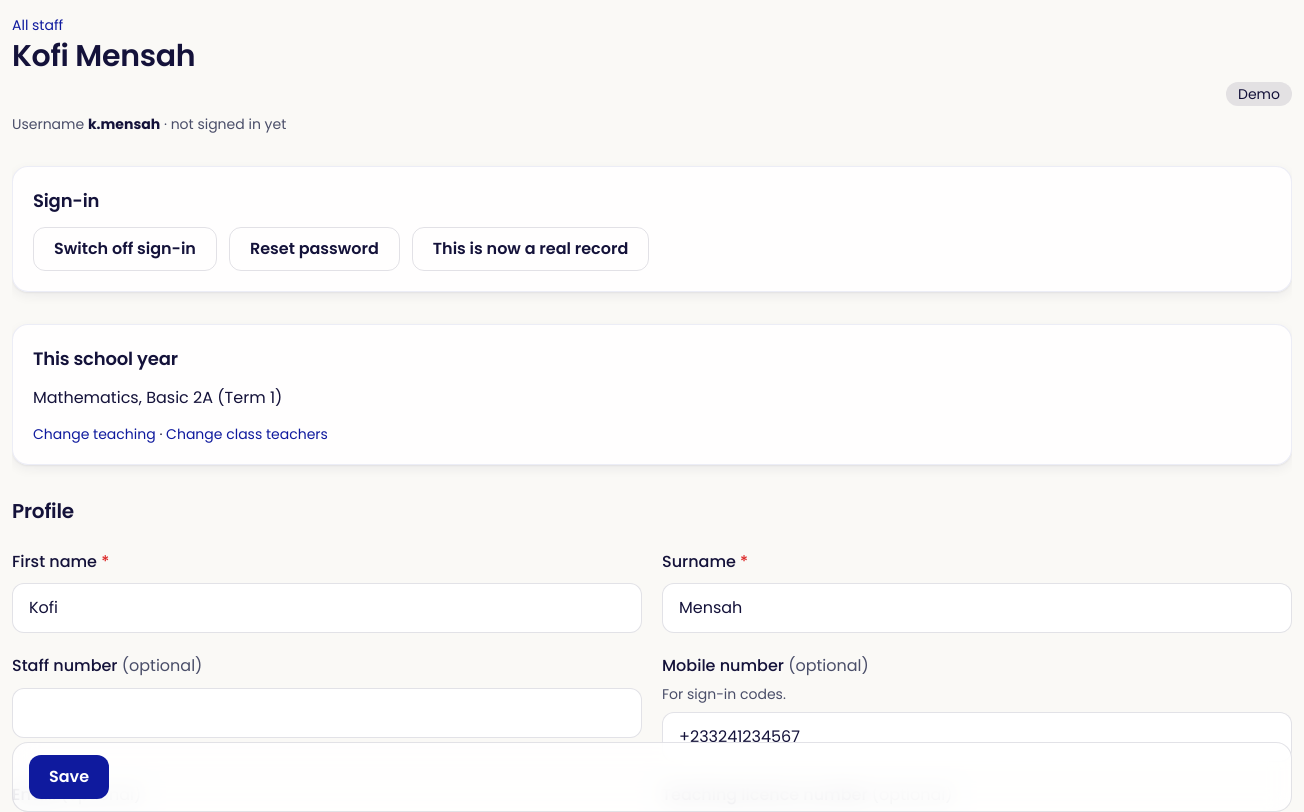
Test: StaffDetailView › turns a demo record into a real one
Click the button "This is now a real record": [531, 249] box [412,227,649,271]
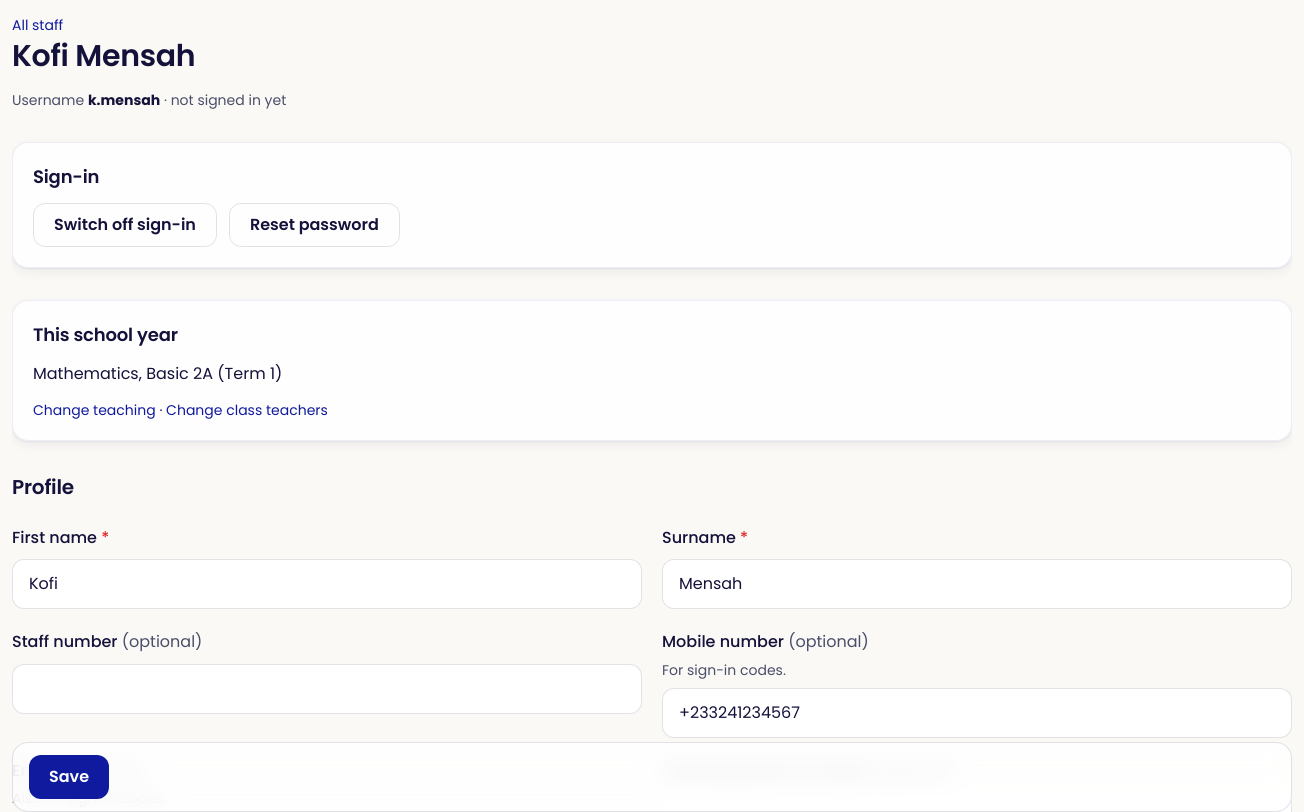
Expected: the heading "Kofi Mensah" is shown, [12,35,195,77]
Expected: the button "This is now a real record" is gone
